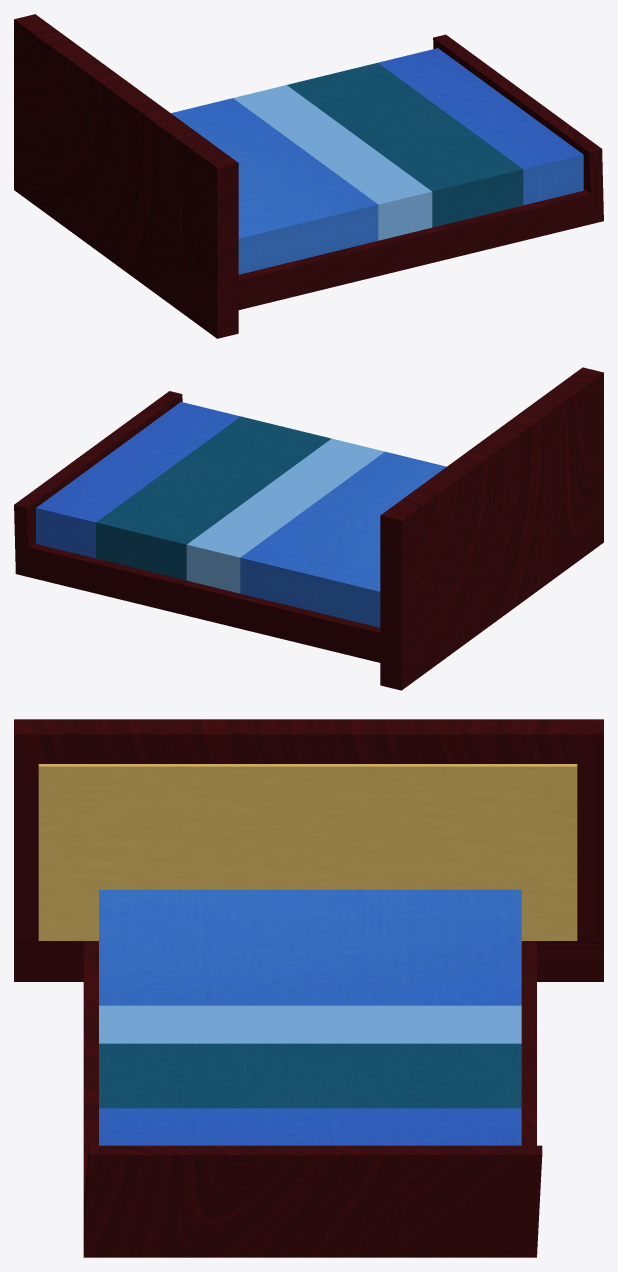
The model's file is bed2.obj.
3 views of the same model, one above another, from view 1: azimuth 30°, elevation 25°; view 2: azimuth 150°, elevation 25°; view 3: azimuth 270°, elevation 25° (orthographic). The views are drawn at different scales.
Parts seen in each view (by area): view 1: Cubo.013_Cubo.001, Cube.004_Cube.001; view 2: Cubo.013_Cubo.001, Cube.004_Cube.001; view 3: Cube.004_Cube.001, Cubo.013_Cubo.001, Cubo.012_Cubo.002.
Part boxes in pixels (x1,y1,x2,y2): Cubo.013_Cubo.001: [14, 14, 603, 338]; Cube.004_Cube.001: [171, 48, 583, 274]; Cubo.013_Cubo.001: [14, 367, 603, 690]; Cube.004_Cube.001: [36, 402, 446, 627]; Cube.004_Cube.001: [99, 889, 521, 1145]; Cubo.013_Cubo.001: [14, 719, 603, 1257]; Cubo.012_Cubo.002: [38, 764, 577, 940].
Bounding box in the file's own units: 103 × 40.95 × 88.38.
5 materials, 5 textured.
